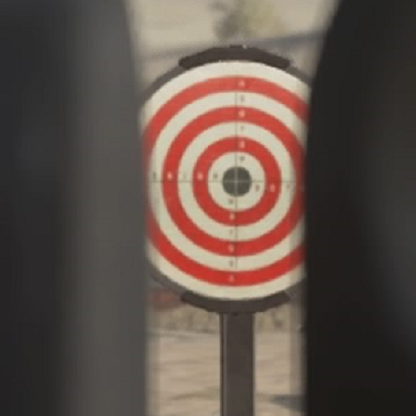target: (150, 50, 300, 313)
